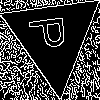P: (28, 13, 75, 52)
